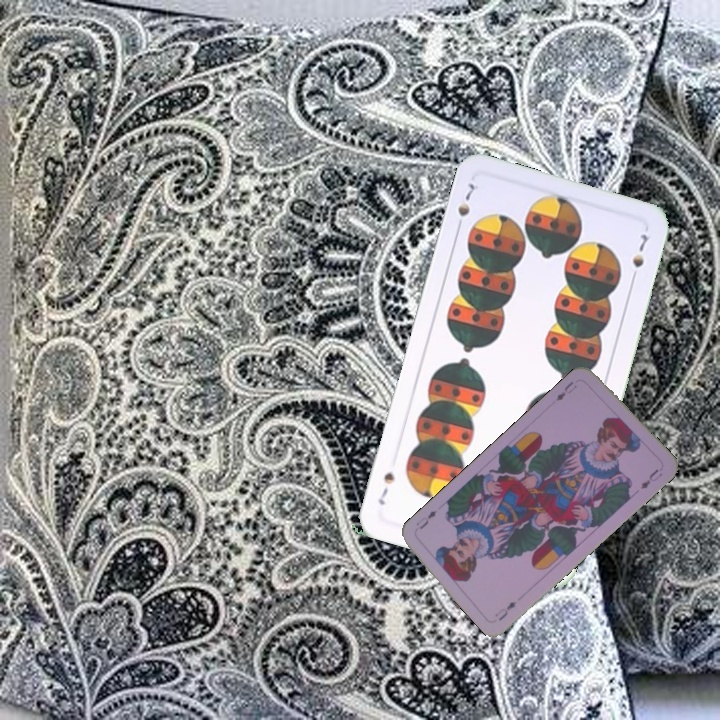EU: (490, 597, 519, 624), (552, 377, 580, 404)
S7: (452, 179, 478, 234)
